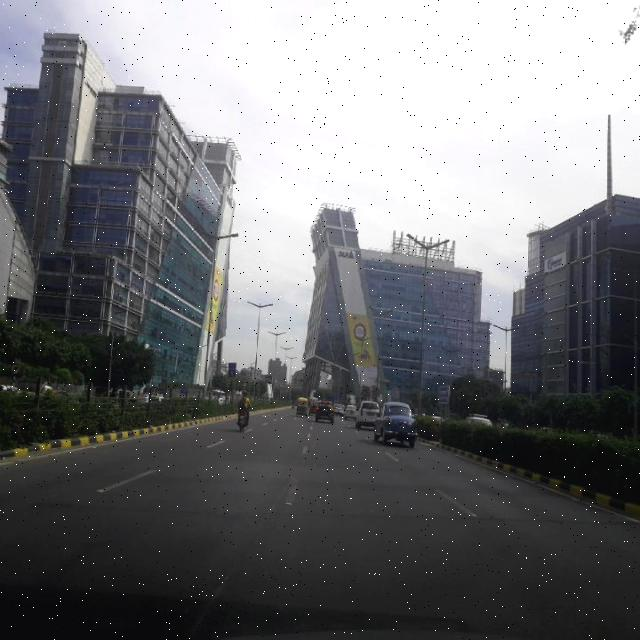D00: (259, 454, 310, 527), (187, 562, 238, 634)
